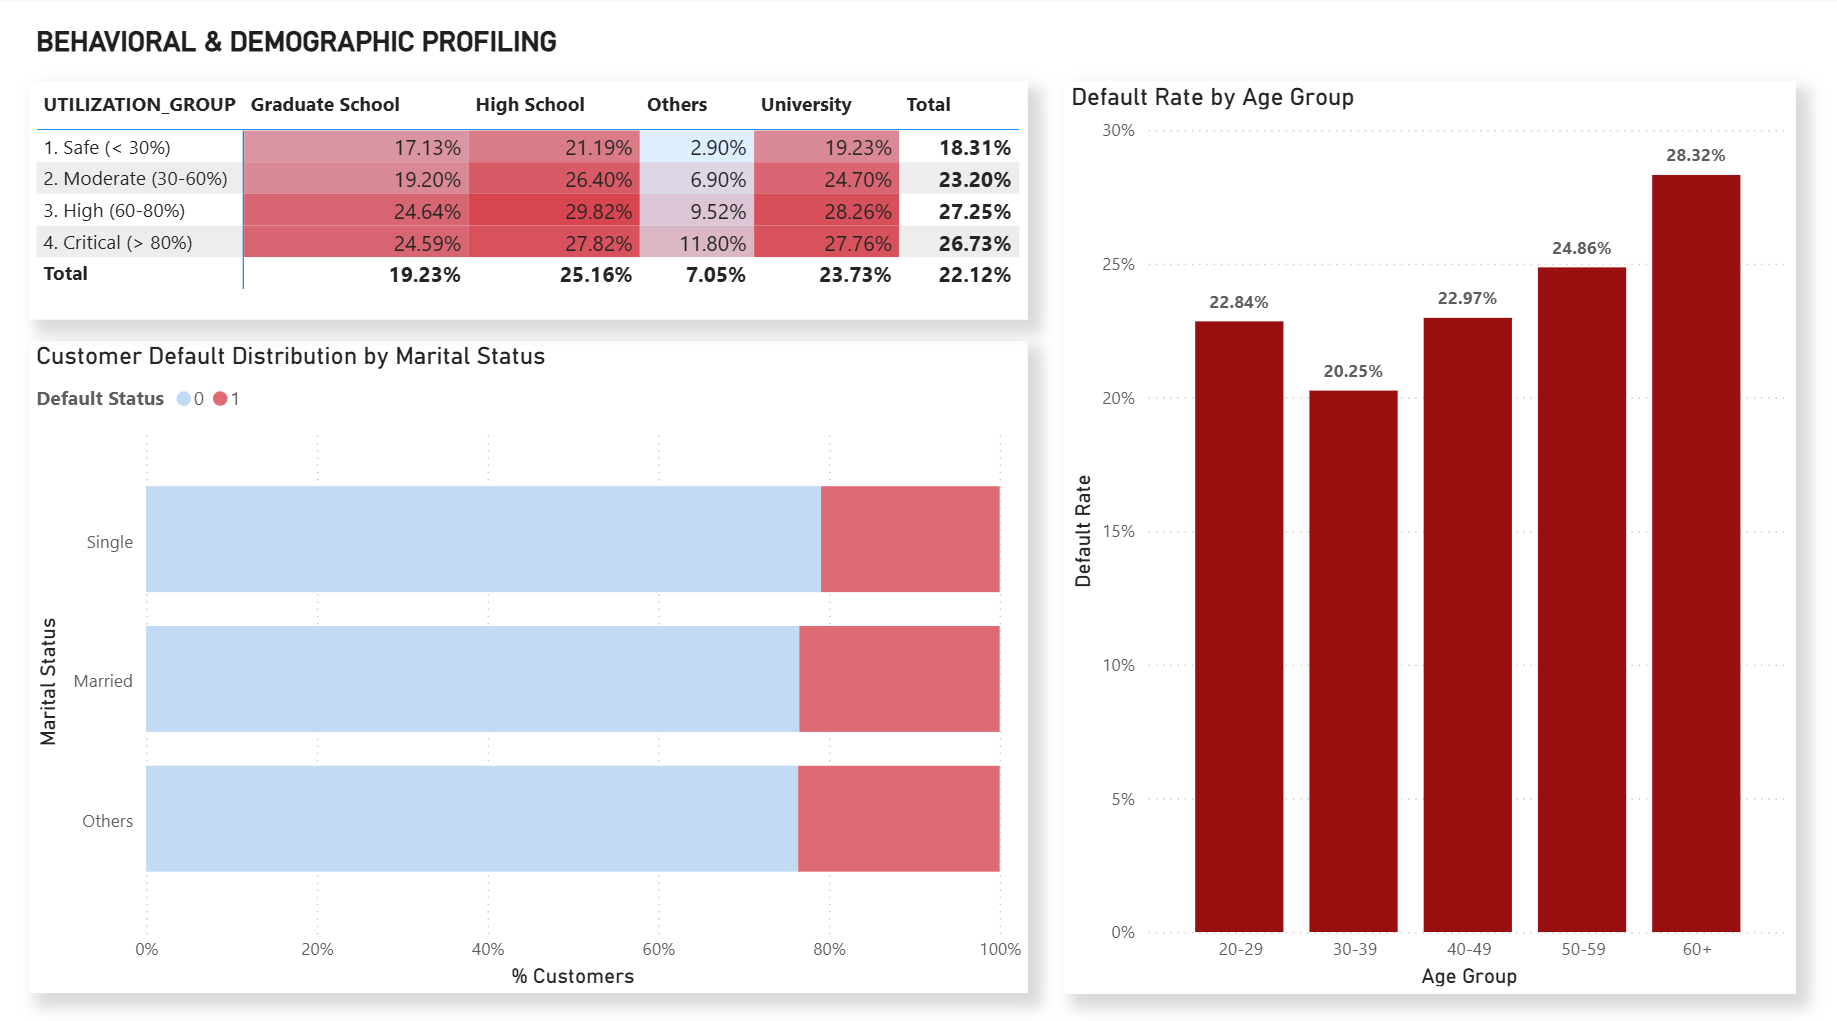

Layout of this report page (visuals, bound fields, positions):
{"tool":"powerbi","page":{"name":"Behavioral  Profiling","canvas":[1280,720],"ordinal":1},"visuals":[{"type":"clusteredColumnChart","title":"Default Rate by Age Group","fields":{"Category":["credit_card_features.AGE_GROUP"],"Y":["credit_card_features.Default Rate"]},"box":[743.4,59.3,508.1,633.1],"z":0},{"type":"hundredPercentStackedBarChart","title":"Customer Default Distribution by Marital Status","fields":{"Category":["credit_card_features.MARRIAGE_LABEL"],"Y":["credit_card_features.Total Customers"],"Series":["credit_card_features.default.payment.next.month"]},"box":[25,239.5,693.5,452.9],"z":1000},{"type":"pivotTable","fields":{"Rows":["credit_card_features.UTILIZATION_GROUP"],"Columns":["credit_card_features.EDUCATION_LABEL"],"Values":["credit_card_features.Default Rate"]},"box":[25,59.3,693.5,165.6],"z":2000},{"type":"textbox","box":[25,14.6,562.3,32.3],"z":3000}]}

Visuals, with their boxes in screenshot pixels (x1, y1, x2, y2), scaled from the page's 1280x720 canvas onto the 1837x1021 screenshot:
"Default Rate by Age Group" clusteredColumnChart: box=[1067, 84, 1796, 982]
"Customer Default Distribution by Marital Status" hundredPercentStackedBarChart: box=[36, 340, 1031, 982]
pivotTable - credit_card_features.UTILIZATION_GROUP x credit_card_features.EDUCATION_LABEL: box=[36, 84, 1031, 319]
textbox: box=[36, 21, 843, 67]
